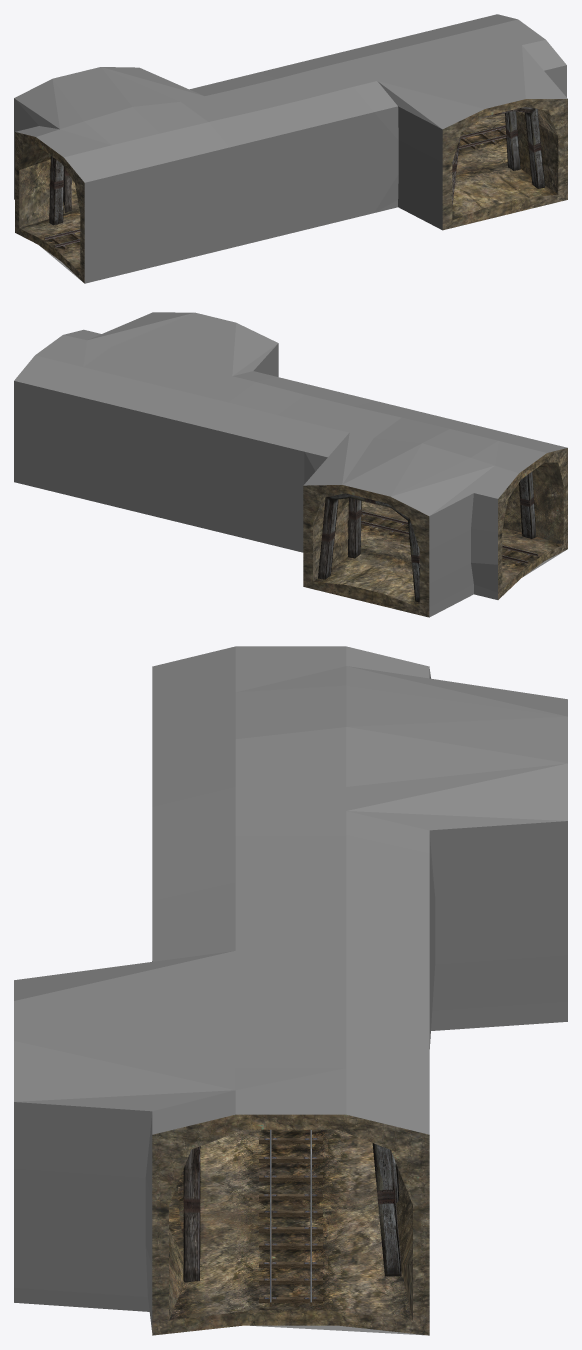
The model's file is svgoldmine02.dae.
3 views of the same model, one above another, from view 1: azimuth 30°, elevation 25°; view 2: azimuth 150°, elevation 25°; view 3: azimuth 270°, elevation 25° (orthographic). The views are drawn at different scales.
Visible parts, largest first — view 1: unnamed_object1_sep1191-0, unnamed_object1_sep1033-0, unnamed_object1_sep1221-0; view 2: unnamed_object1_sep1191-0, unnamed_object1_sep1033-0, unnamed_object1_sep1221-0; view 3: unnamed_object1_sep1191-0, unnamed_object1_sep1221-0, unnamed_object1_sep1033-0.
Part boxes in pixels (left/top/right/bottom): unnamed_object1_sep1191-0: left=14, top=14, right=567, bottom=283; unnamed_object1_sep1033-0: left=49, top=106, right=544, bottom=225; unnamed_object1_sep1221-0: left=44, top=125, right=506, bottom=249; unnamed_object1_sep1191-0: left=14, top=312, right=567, bottom=617; unnamed_object1_sep1033-0: left=318, top=471, right=536, bottom=602; unnamed_object1_sep1221-0: left=361, top=511, right=538, bottom=565; unnamed_object1_sep1191-0: left=14, top=646, right=567, bottom=1335; unnamed_object1_sep1221-0: left=259, top=1129, right=322, bottom=1306; unnamed_object1_sep1033-0: left=183, top=1143, right=401, bottom=1282.
Bounding box in the file's own units: 6000 × 1398 × 3000.
